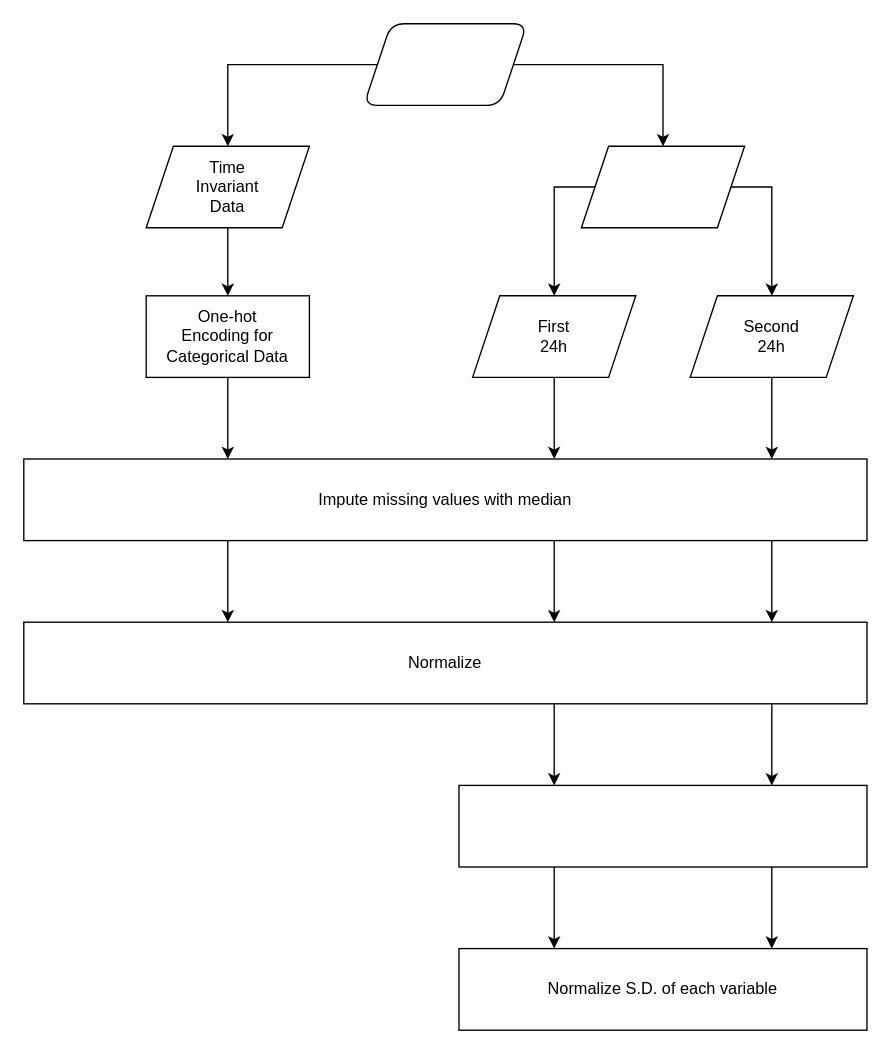
Some shapes in this 891 by 1054 pixel diagram are drawn without their labels. The centre of each missing label's shape, as x and y in pixels:
"Calculate S.D. for each variable" goes at pixel 662 825.
"Raw data" goes at pixel 444 63.
"Time Variant Data" goes at pixel 662 186.
